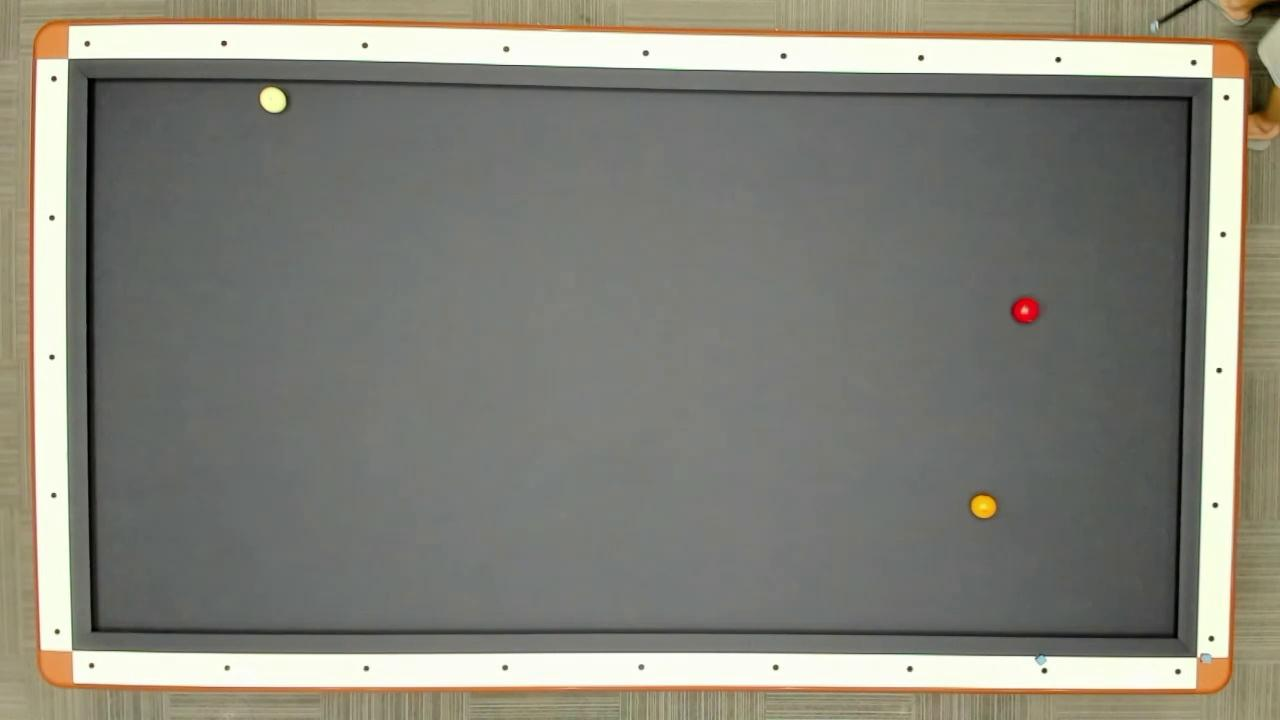Red: (1009, 296, 1042, 326)
White: (258, 86, 288, 115)
Yellow: (968, 492, 999, 521)
